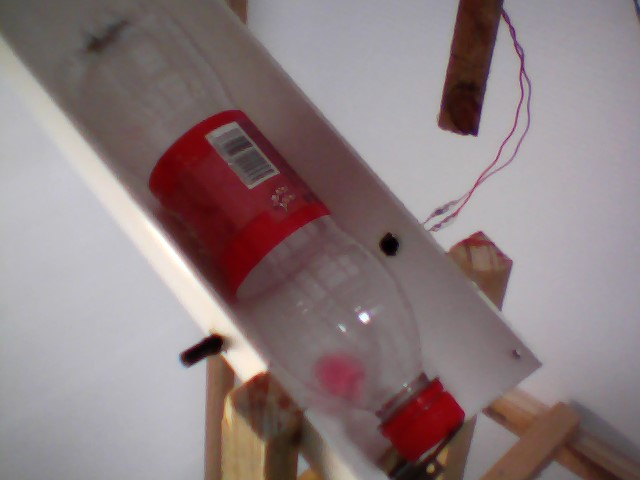plastico: (35, 1, 471, 466)
